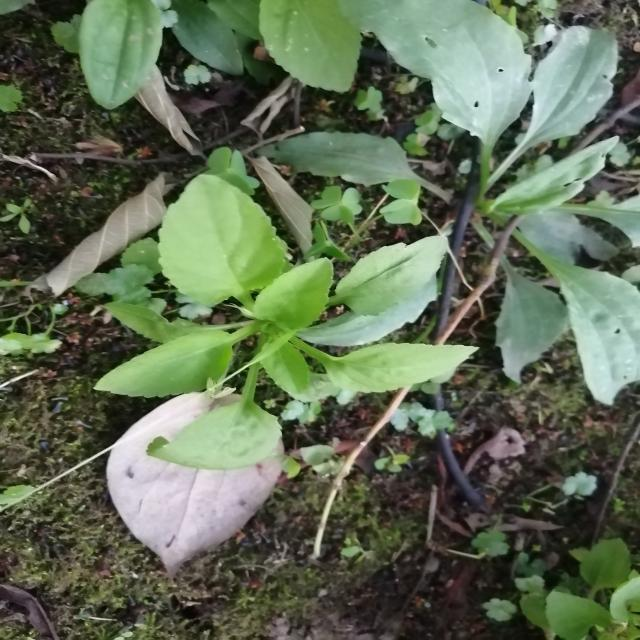Viola: (95, 161, 521, 513)
